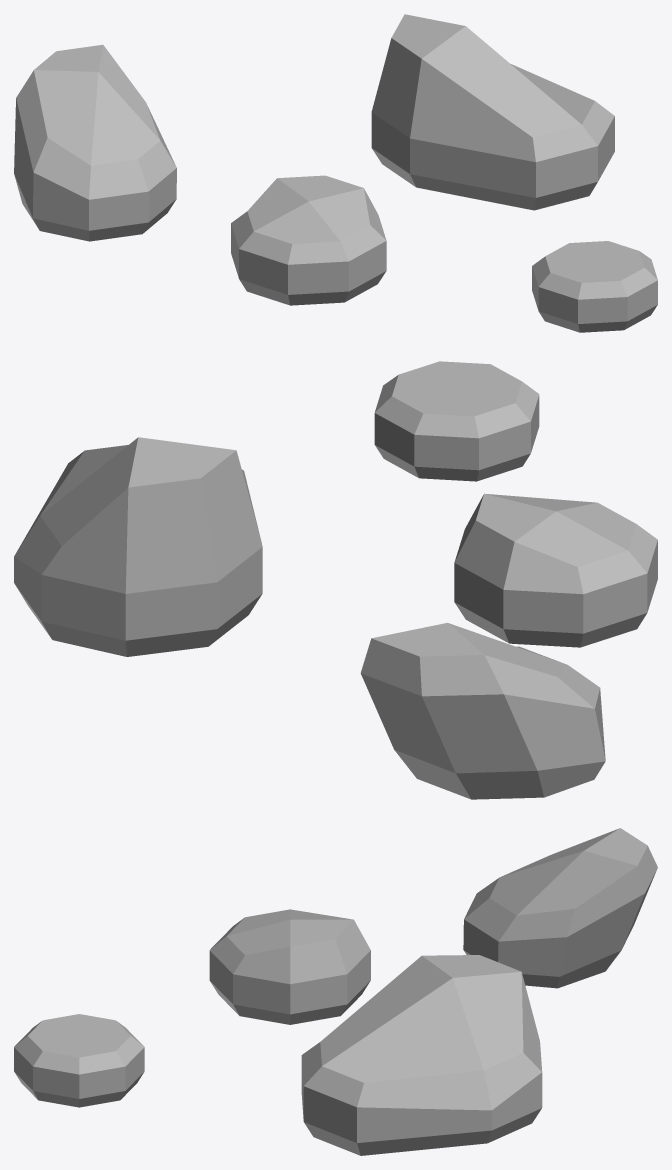
The model's file is pebbles.glb.
The picture shows the model from 3 angles, top to bottom: view 1: azimuth 30°, elevation 25°; view 2: azimuth 150°, elevation 25°; view 3: azimuth 270°, elevation 25°; orthographic projection. The views are drawn at different scales.
Parts seen in each view (by area): view 1: Pebbles; view 2: Pebbles; view 3: Pebbles.
Part boxes in pixels (x1=…): Pebbles: x1=14, y1=14, x2=657, y2=332; Pebbles: x1=14, y1=361, x2=657, y2=799; Pebbles: x1=14, y1=828, x2=657, y2=1155.
Size of the model in its own units: 0.8303 by 0.2219 by 0.931.
Materials: 1 (1 with a texture image).
